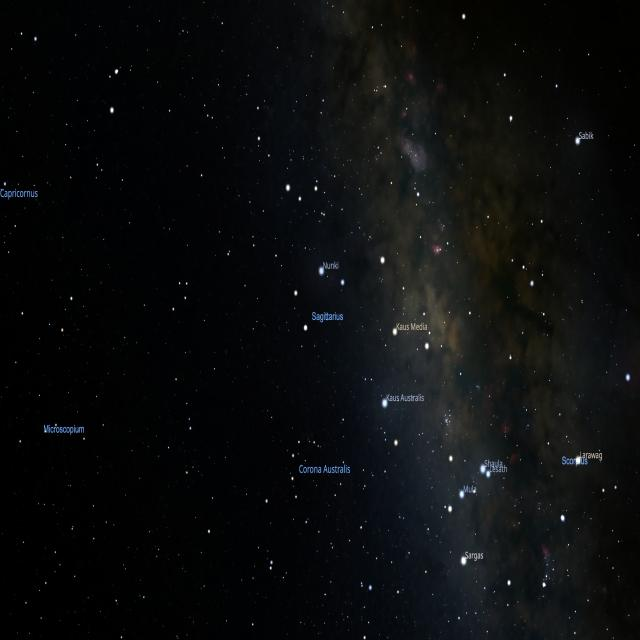Sagittarius: (168, 133, 474, 575)
